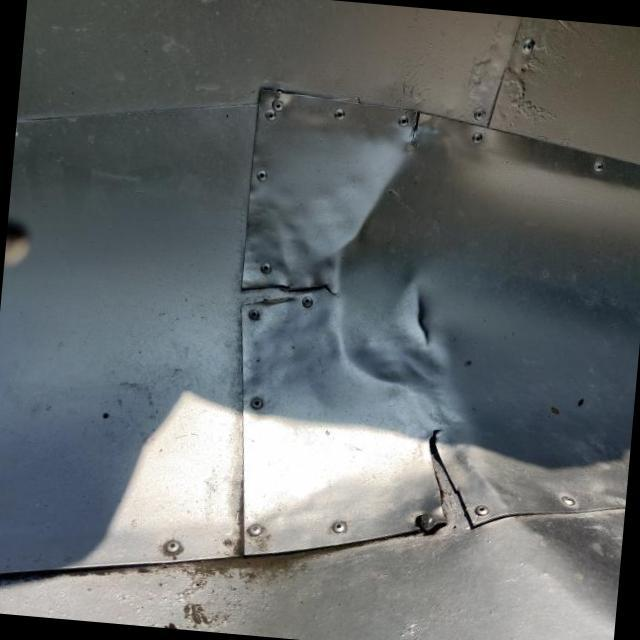Dent: (305, 113, 536, 433)
Rupture: (392, 413, 507, 554), (230, 254, 348, 326), (396, 104, 428, 154)
